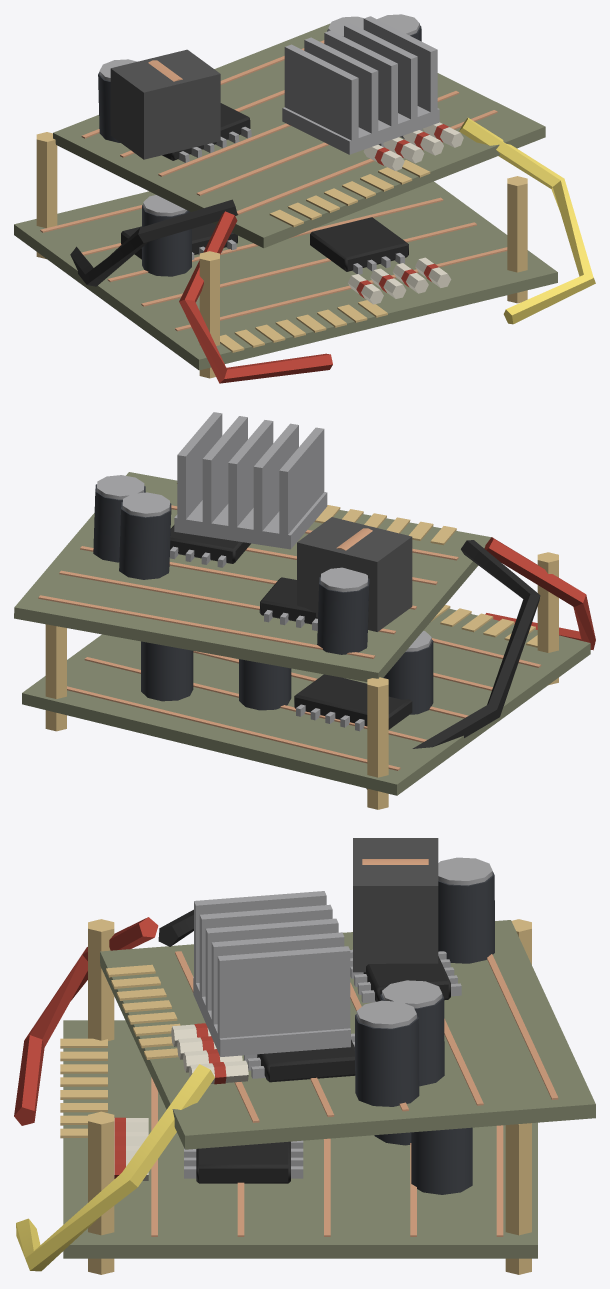
File: electronics.glb
The picture shows the model from 3 angles, top to bottom: view 1: azimuth 30°, elevation 25°; view 2: azimuth 150°, elevation 25°; view 3: azimuth 270°, elevation 25°; orthographic projection. The views are drawn at different scales.
Visible parts, largest first — view 1: body; view 2: body; view 3: body.
Part boxes in pixels (box(x1,y1,x2,y2)): body: box(14, 14, 595, 383); body: box(14, 412, 595, 809); body: box(14, 838, 595, 1274).
Size of the model in its own units: 0.0635 by 0.0333 by 0.0613.
